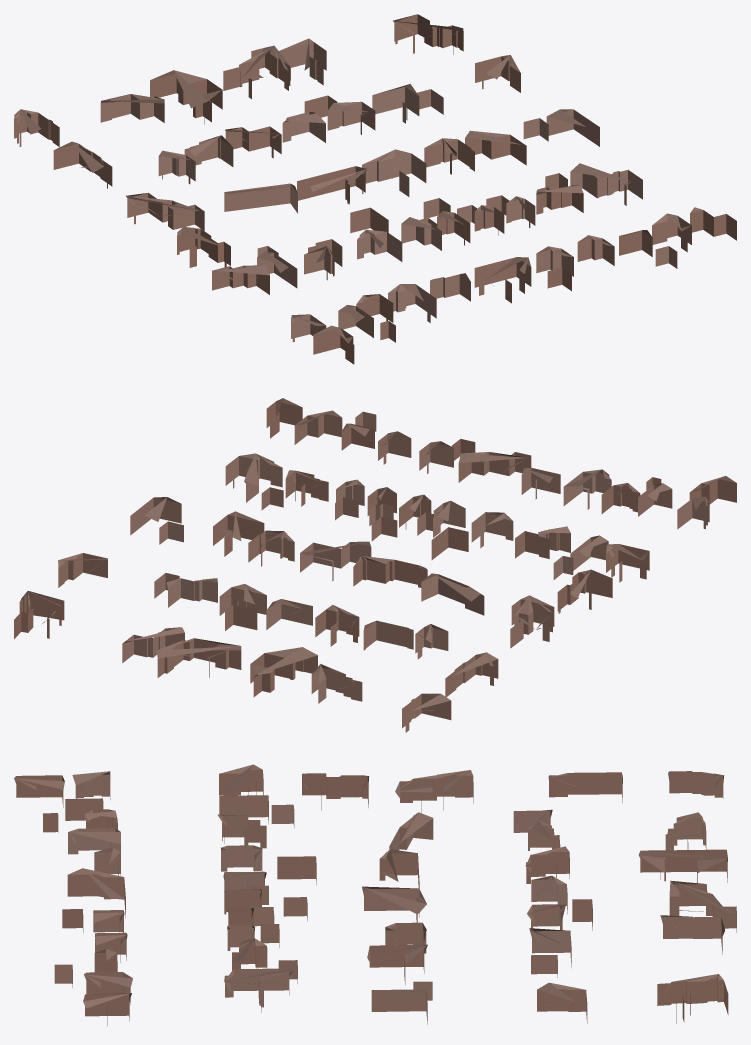
The model's file is c_1647_17824_buildings_residential.glb.
3 views of the same model, one above another, from view 1: azimuth 30°, elevation 25°; view 2: azimuth 150°, elevation 25°; view 3: azimuth 270°, elevation 25° (orthographic). The views are drawn at different scales.
Visible parts, largest first — view 1: geometry_0; view 2: geometry_0; view 3: geometry_0.
Part boxes in pixels (x1,y1,x2,y2): geometry_0: (14, 14, 736, 364); geometry_0: (14, 398, 736, 732); geometry_0: (14, 764, 736, 1025).
Size of the model in its own units: 216 by 10.94 by 275.
